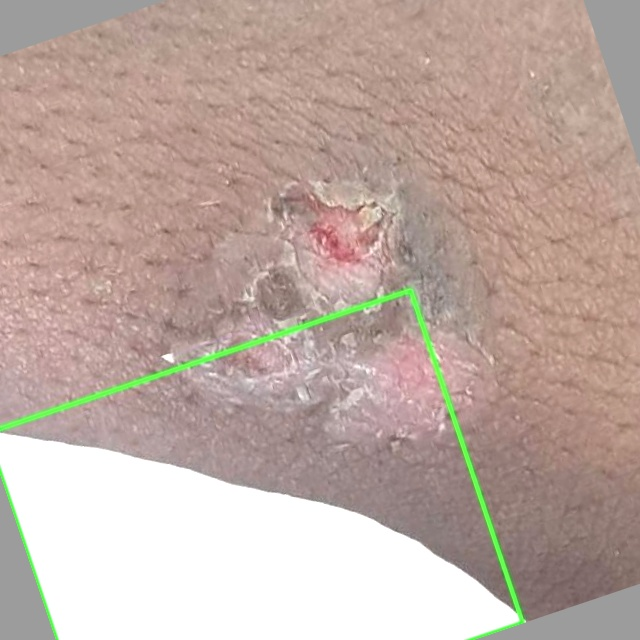Contact Dermatitis: (0, 290, 522, 639)
